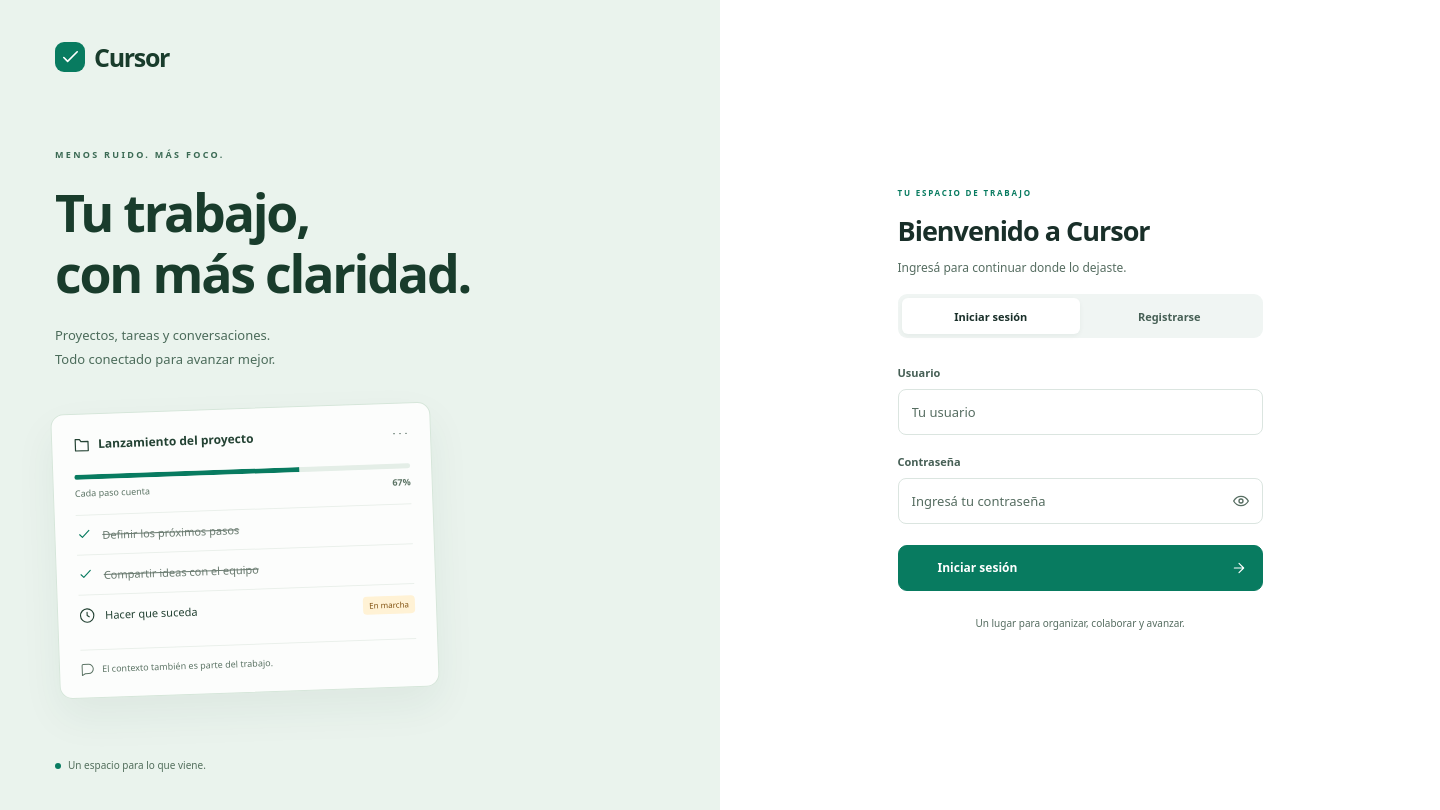
API errors and sessions › shows a useful login error
The image size is (1440, 810).
Type "alice" into the field labelled "Usuario" at (1080, 412), box [898,389,1262,435]
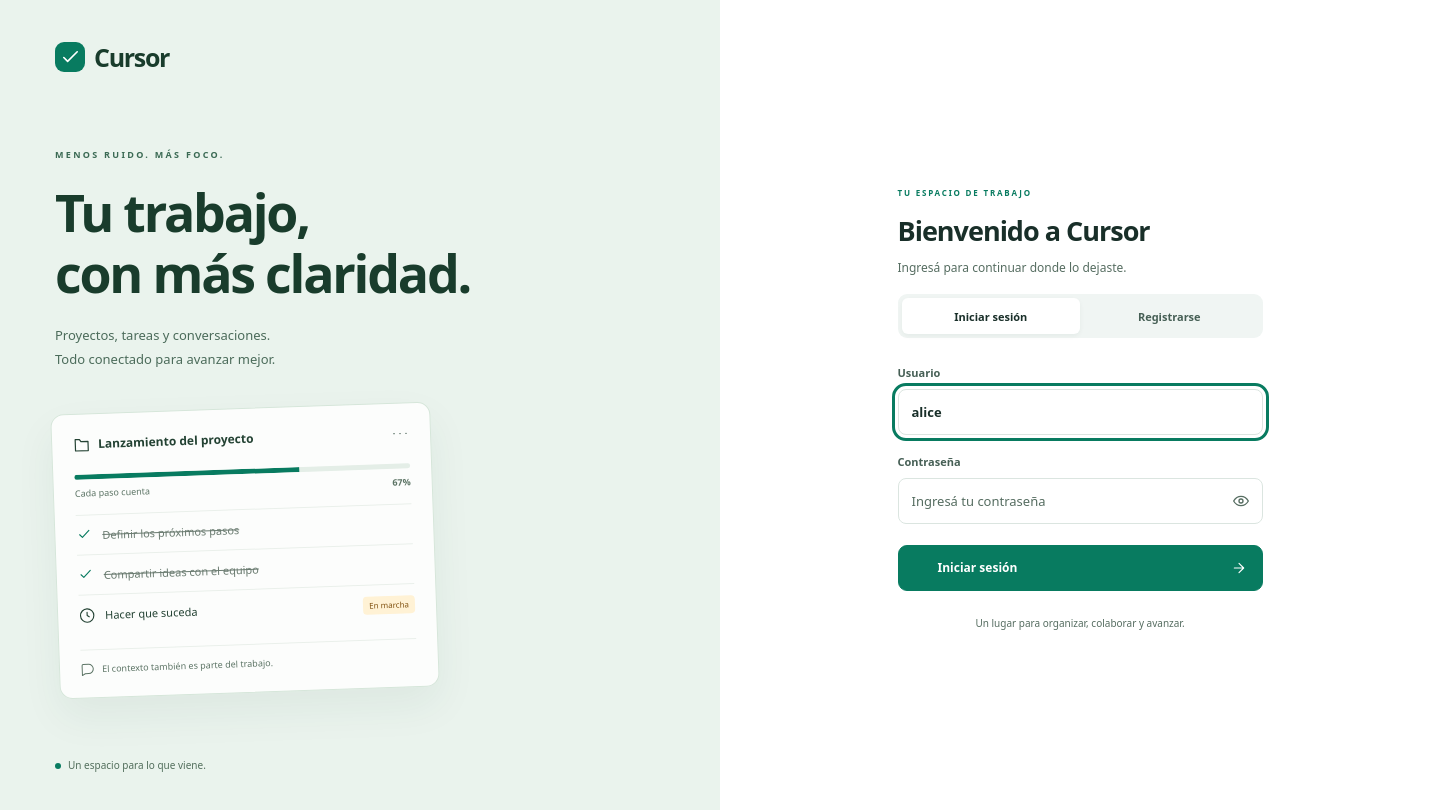
Type "wrong" into the password field labelled "Contraseña" at (1080, 501), box [898,478,1262,524]
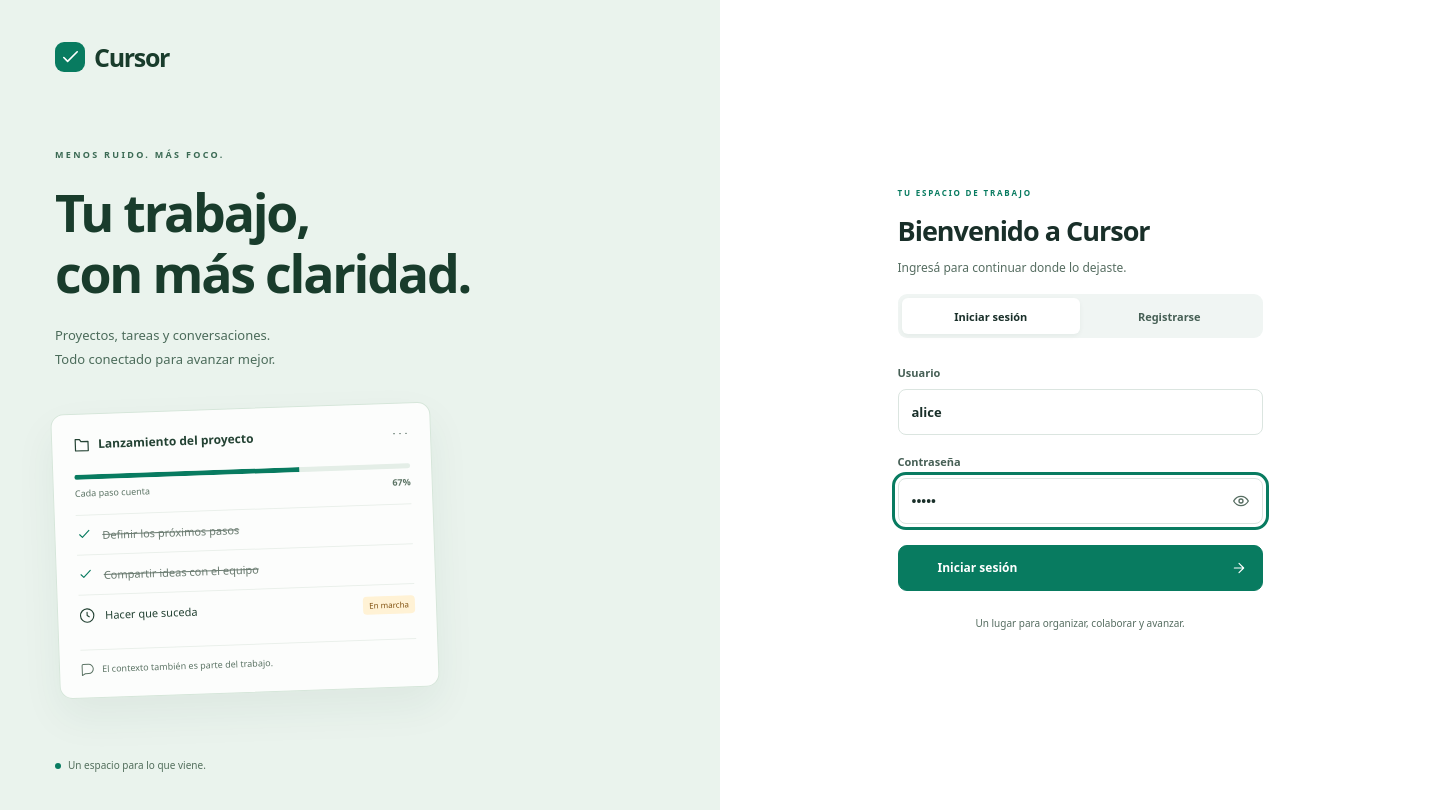
Click the button "Iniciar sesión" below "Contraseña" at (977, 567), box [898,545,1262,591]
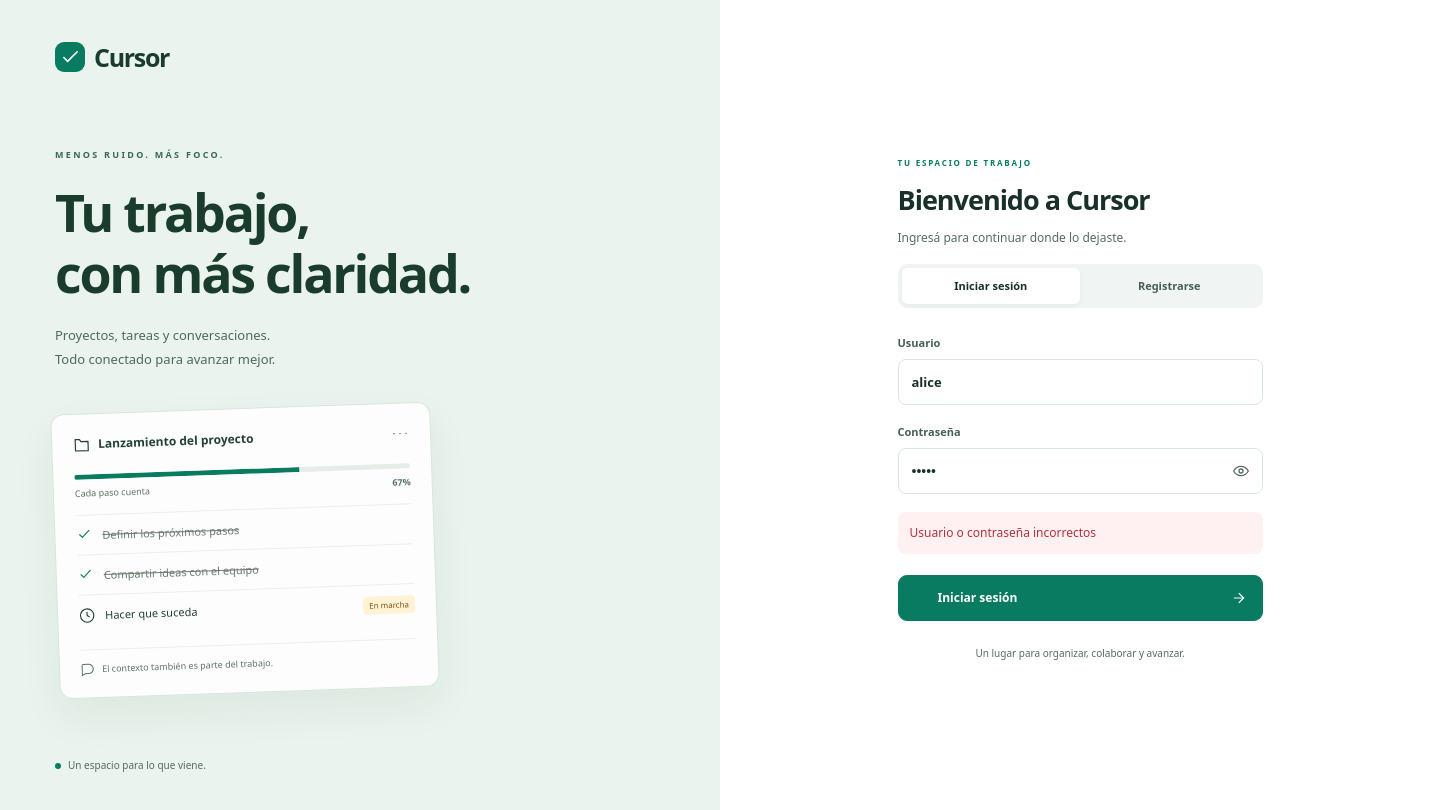
Result: the message reads "Usuario o contraseña incorrectos" at [910,524,1096,541]
